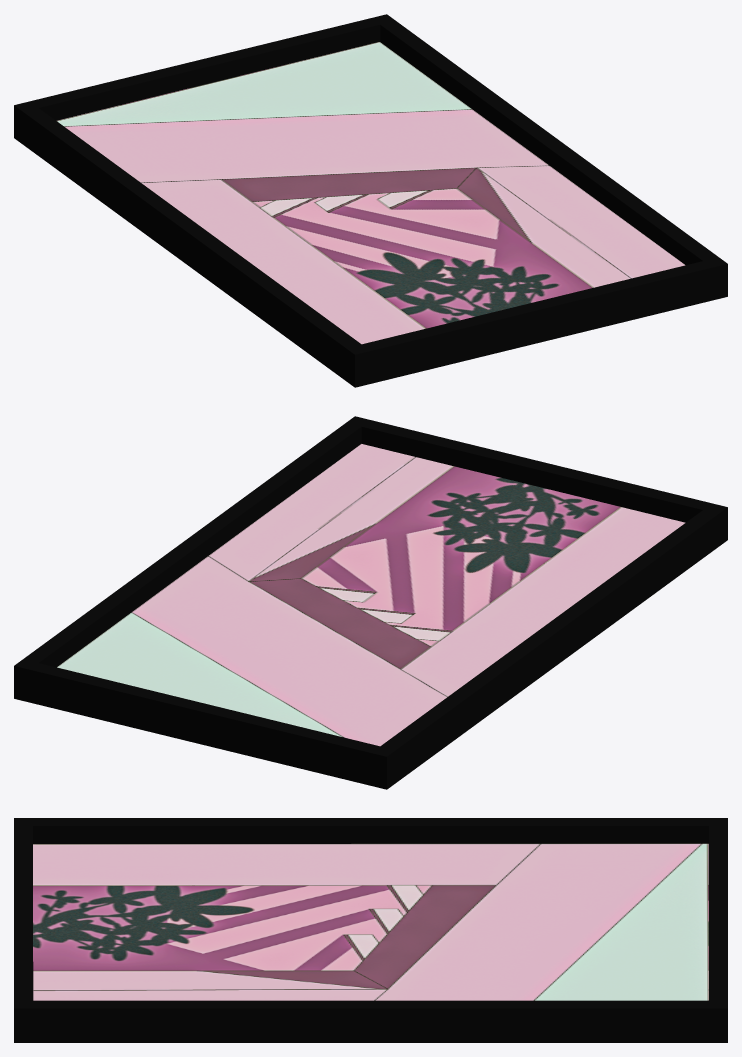
Rendered from tableau_paysage (1).glb.
3 renders of one model, top to bottom at view 1: azimuth 30°, elevation 25°; view 2: azimuth 150°, elevation 25°; view 3: azimuth 270°, elevation 25°, orthographic. The views are drawn at different scales.
Visible parts, largest first — view 1: Cube.001, Cube; view 2: Cube.001, Cube; view 3: Cube.001, Cube.
Boxes of the visible parts, x1,y1,x2,y2 form: Cube.001: (57,42,685,344); Cube: (14,14,727,387); Cube.001: (57,444,685,746); Cube: (14,416,727,789); Cube.001: (33,843,708,1000); Cube: (14,818,727,1042).
Bounding box in the file's own units: 1.26 × 0.1064 × 2.
2 materials, 1 textured.
